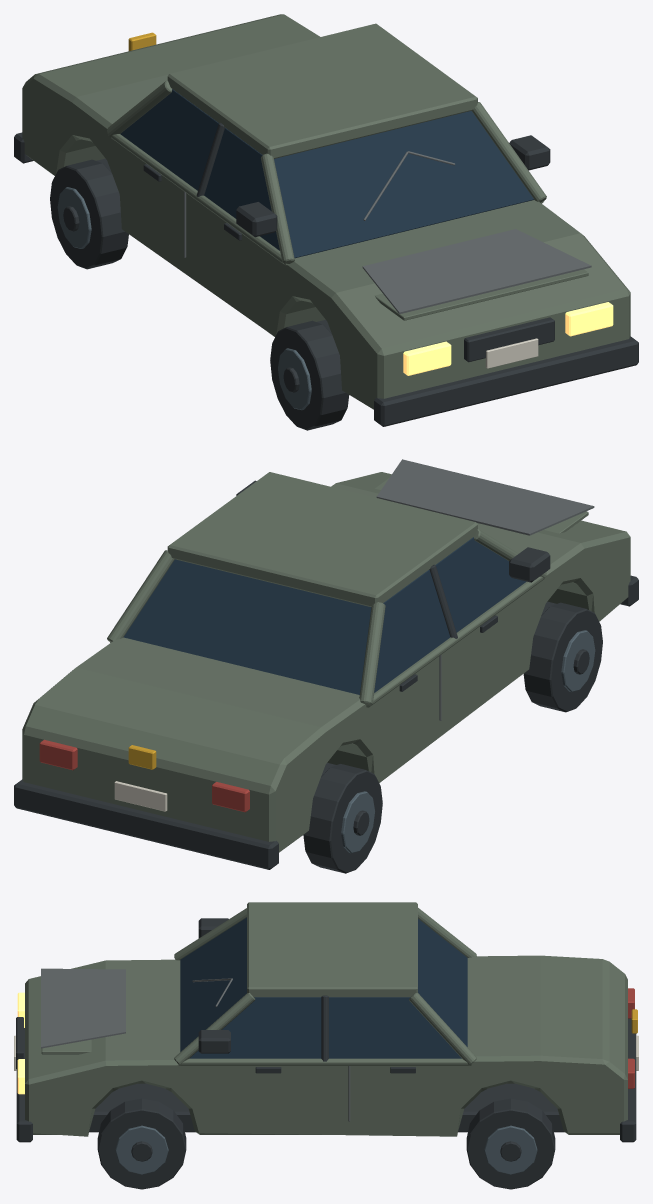
File: vehicle_abandoned_sedan_model.glb
The picture shows the model from 3 angles, top to bottom: view 1: azimuth 30°, elevation 25°; view 2: azimuth 150°, elevation 25°; view 3: azimuth 270°, elevation 25°; orthographic projection. The views are drawn at different scales.
Parts seen in each view (by area): view 1: BH_AbandonedCar_01_RenderMesh, BH_AbandonedCar_01_LightMesh; view 2: BH_AbandonedCar_01_RenderMesh; view 3: BH_AbandonedCar_01_RenderMesh, BH_AbandonedCar_01_LightMesh.
Boxes of the visible parts, x1=… form: BH_AbandonedCar_01_RenderMesh: x1=14, y1=14, x2=638, y2=430; BH_AbandonedCar_01_LightMesh: x1=403, y1=302, x2=613, y2=375; BH_AbandonedCar_01_RenderMesh: x1=14, y1=459, x2=638, y2=873; BH_AbandonedCar_01_RenderMesh: x1=14, y1=902, x2=638, y2=1189; BH_AbandonedCar_01_LightMesh: x1=17, y1=992, x2=24, y2=1094.
Size of what is drawn, in the model's own units: 2.14 by 1.54 by 4.64.
